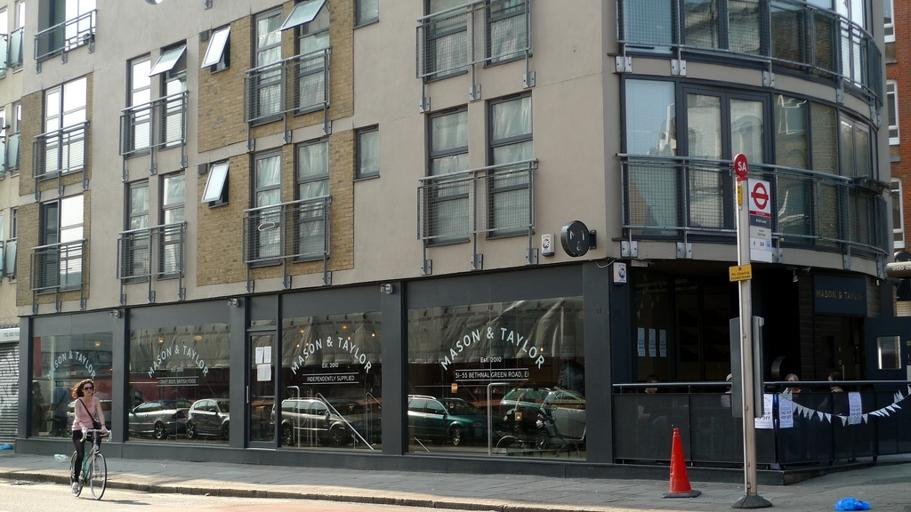non-vehicle: (493, 396, 579, 457), (68, 427, 113, 501)
